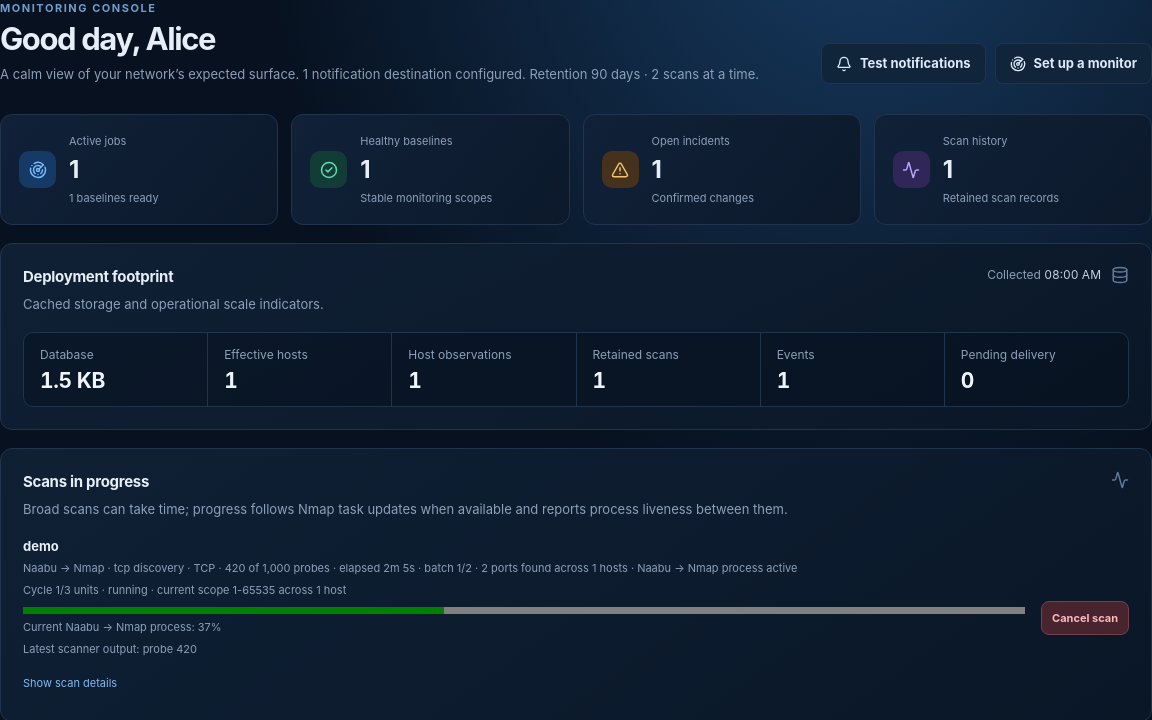
Test case: dashboard › navigates to job setup from the dashboard action
Click the button "Set up a monitor".
click(1073, 64)  # box [994,43,1151,84]
(page scrolled)
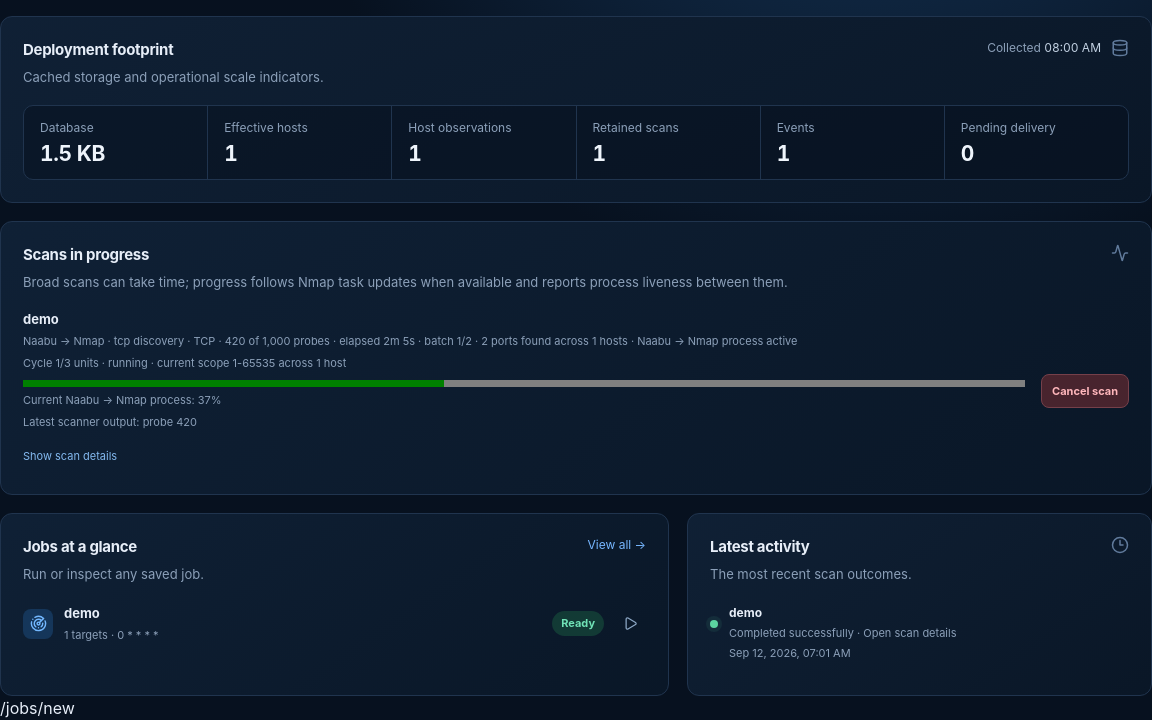
Check: the text with test id "current-path" reads "/jobs/new", box [0,698,75,718]
